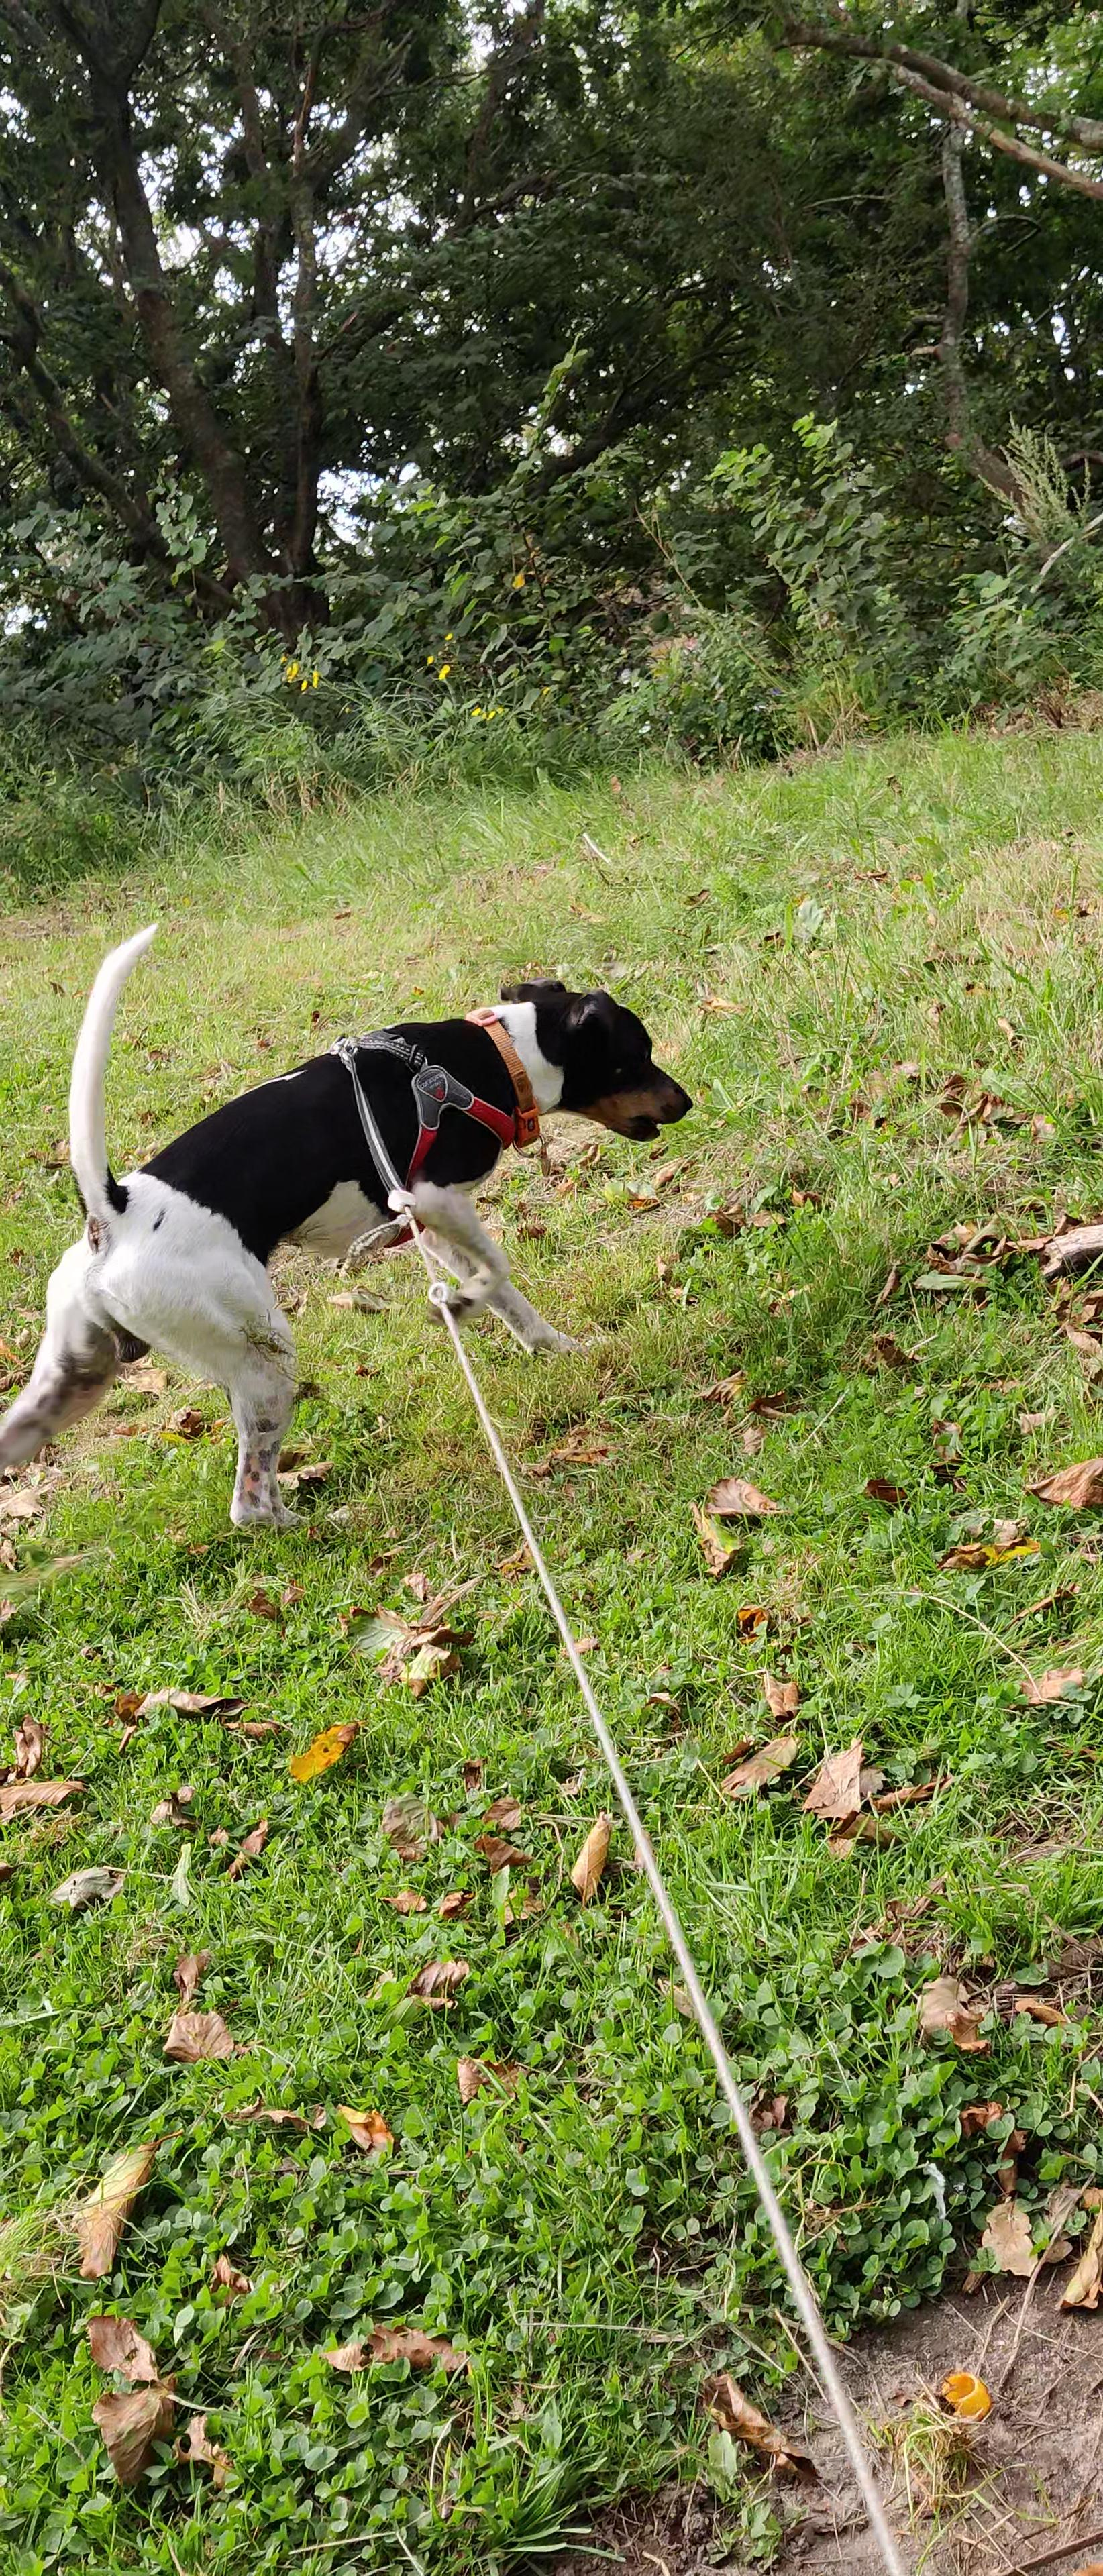Dog: (0, 905, 702, 1561)
